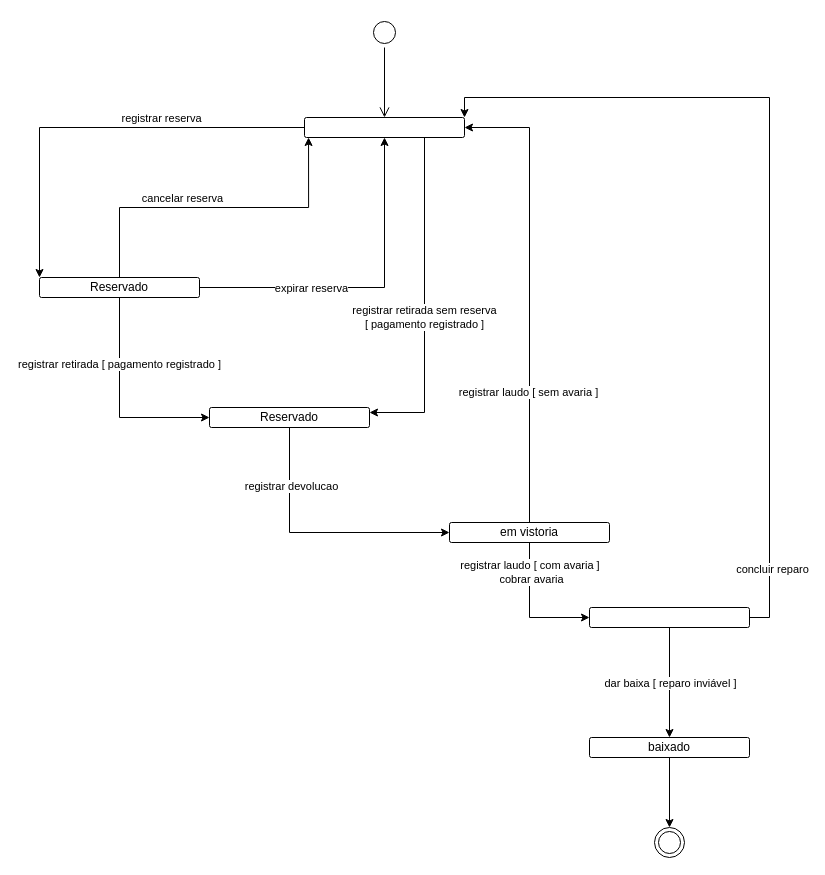
The diagram is 825 pixels wide and 875 high, and some of its shapes have lost their labels. The centre of each missing label's shape, as x and y in pixels:
Disponivel: the point at 384,127
em manutenção: the point at 669,617
